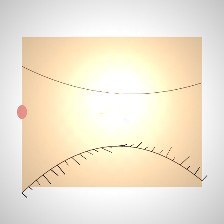corneal_ulcer: (82, 95, 125, 129)
